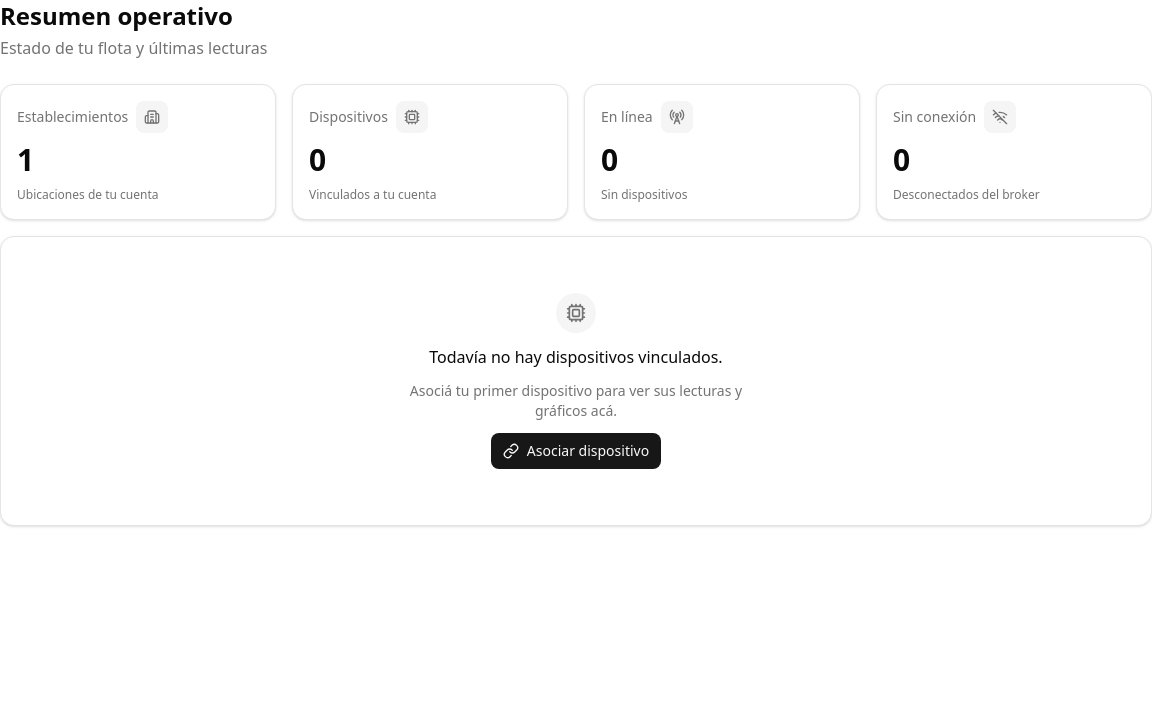
Test: OverviewPage operational dashboard › invites to pair a device when the fleet is empty
Expected: the text "Todavía no hay dispositivos vinculados." is shown, [429,345,723,369]
Click the button with test id "kpi-devices" at (348, 116), box [292,84,568,220]
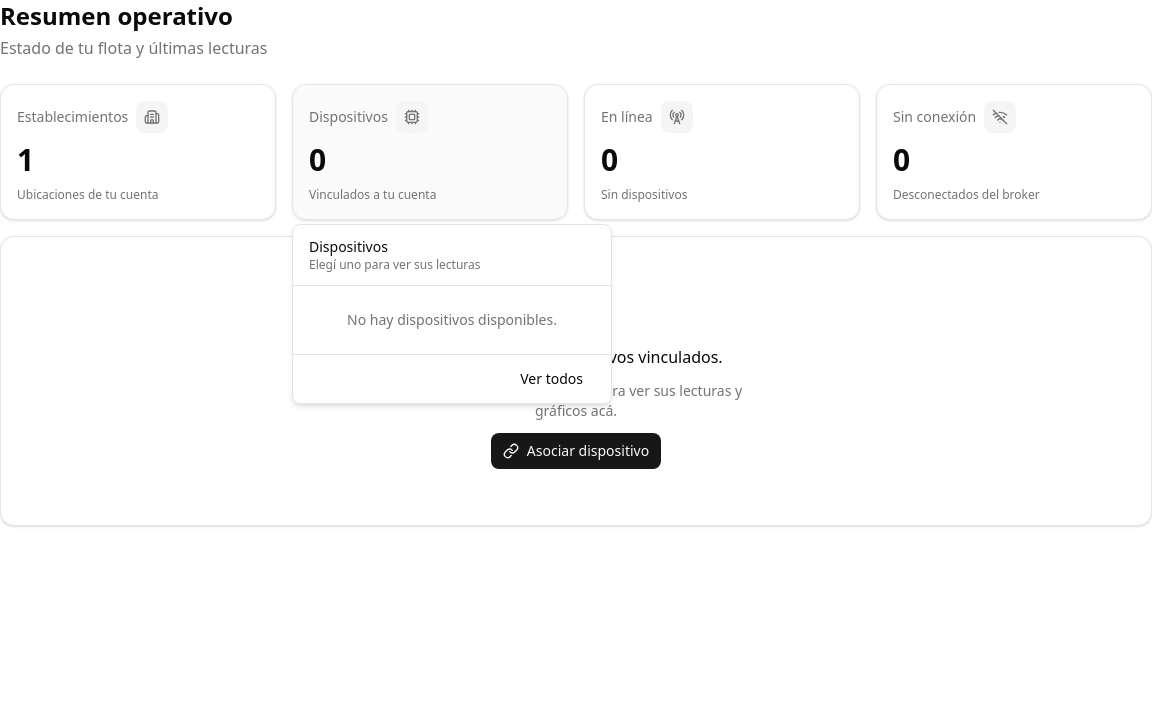
Expected: the text with test id "kpi-online-caption" reads "Sin dispositivos", [601,186,688,203]
Expected: the text "No hay dispositivos disponibles." is shown, [347,310,557,329]
